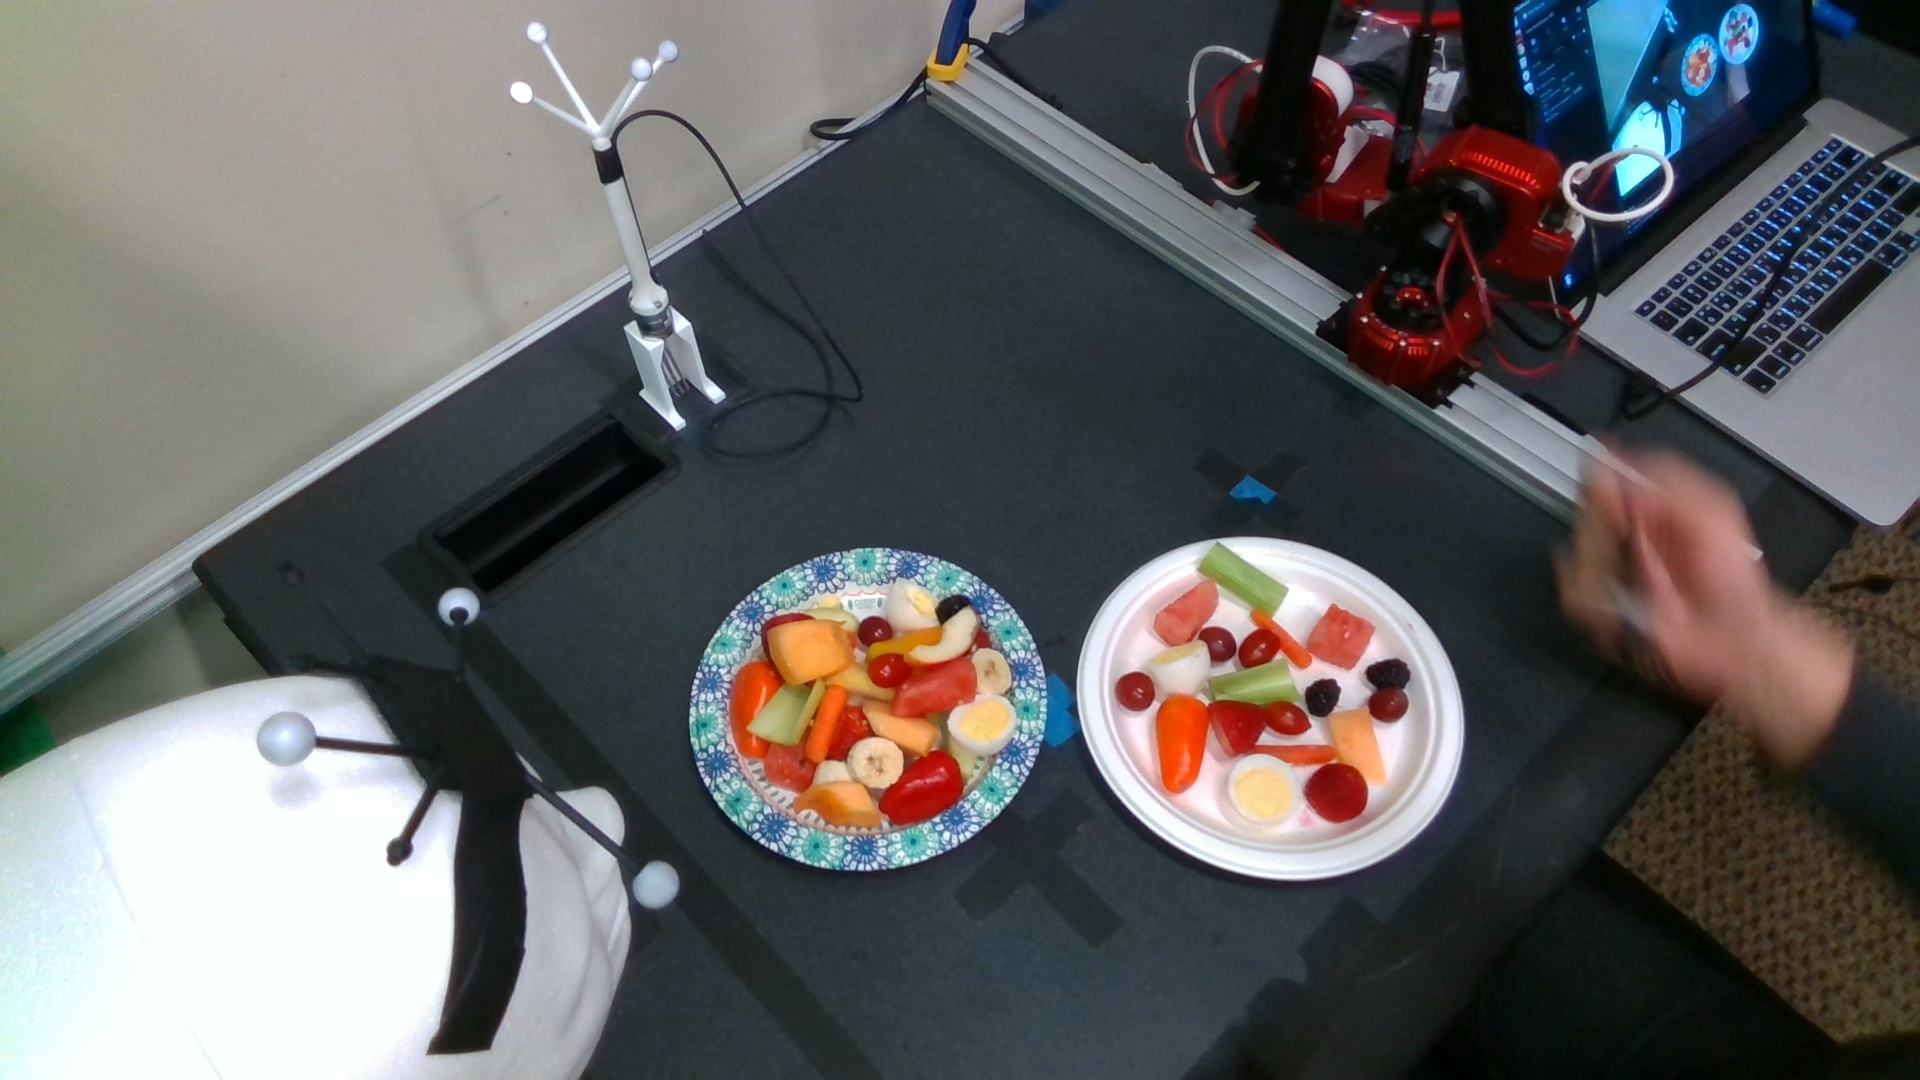apple: (911, 609, 975, 665)
banana: (848, 737, 905, 789), (971, 647, 1011, 696)
bell_pepper: (880, 752, 961, 825), (1156, 694, 1207, 793), (735, 665, 775, 758)
blackberry: (1364, 658, 1408, 688), (1305, 678, 1338, 717)
cantalope: (767, 617, 849, 687), (1328, 707, 1386, 787), (793, 777, 876, 831), (864, 703, 940, 756)
carrot: (804, 686, 843, 762), (1244, 742, 1333, 762)
celery: (1203, 541, 1290, 618), (748, 680, 825, 745), (1208, 659, 1299, 709)
cherry_tomato: (1238, 630, 1280, 667), (866, 654, 910, 688)
egg: (1232, 753, 1302, 824), (949, 694, 1014, 753), (1145, 641, 1209, 696), (886, 580, 938, 632)
grape_purple: (1114, 673, 1155, 711), (1367, 690, 1408, 721), (1199, 626, 1236, 658), (857, 616, 893, 644)
melon: (1305, 603, 1371, 666), (895, 669, 980, 717), (1154, 582, 1220, 644), (764, 742, 818, 793)
strawberry: (1305, 764, 1367, 823), (1204, 703, 1267, 756)
